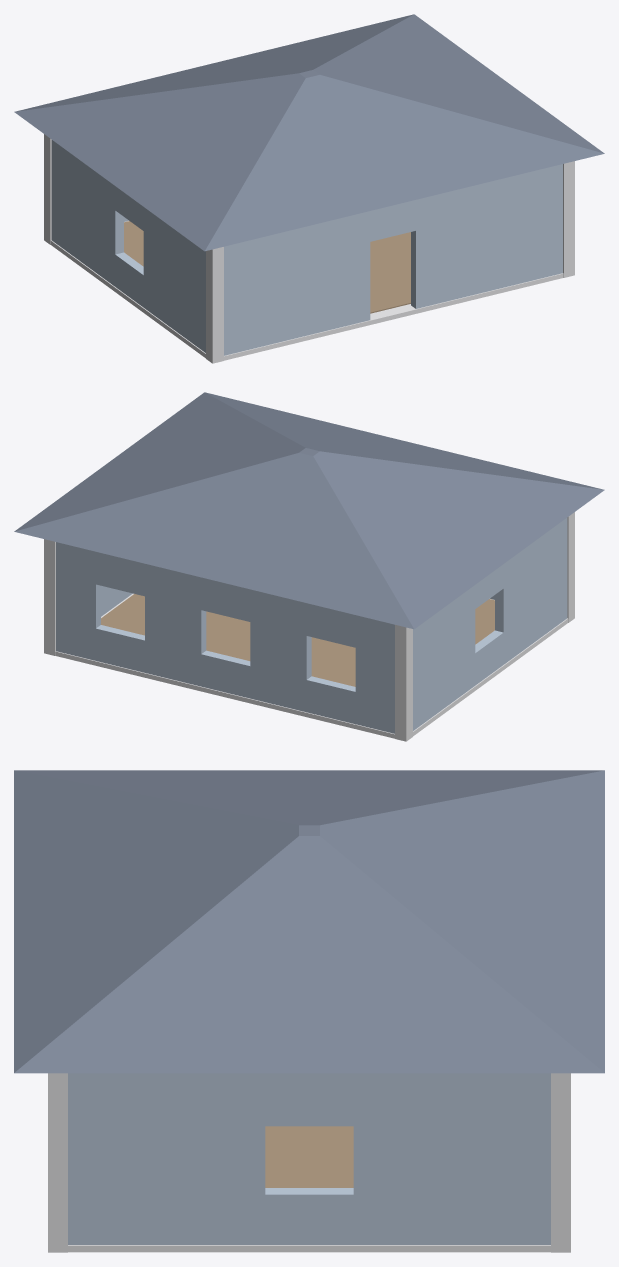
File: house_b.glb
The picture shows the model from 3 angles, top to bottom: view 1: azimuth 30°, elevation 25°; view 2: azimuth 150°, elevation 25°; view 3: azimuth 270°, elevation 25°; orthographic projection. The views are drawn at different scales.
Visible parts, largest first — view 1: house_b; view 2: house_b; view 3: house_b.
Boxes of the visible parts, bbox=[...] form: house_b: bbox=[14, 14, 604, 363]; house_b: bbox=[14, 392, 604, 741]; house_b: bbox=[14, 770, 604, 1252].
Size of the model in its own units: 11.4 by 5 by 9.4.
